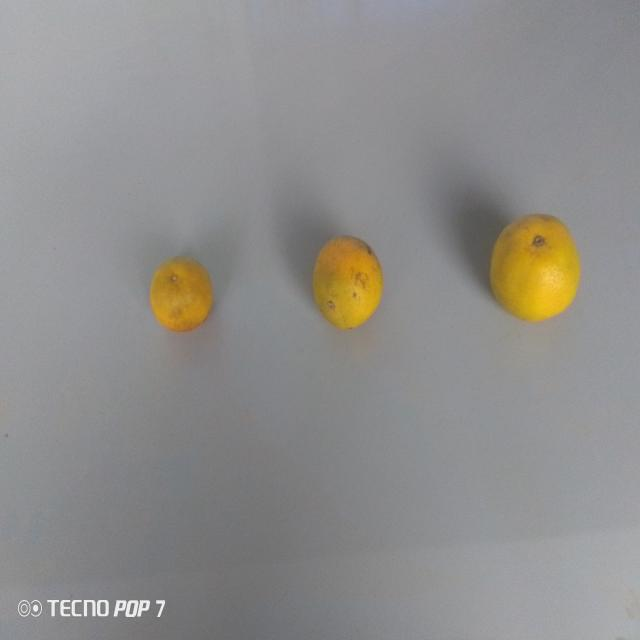Ripe orange: (484, 204, 586, 329), (308, 228, 389, 341), (146, 247, 219, 345)
